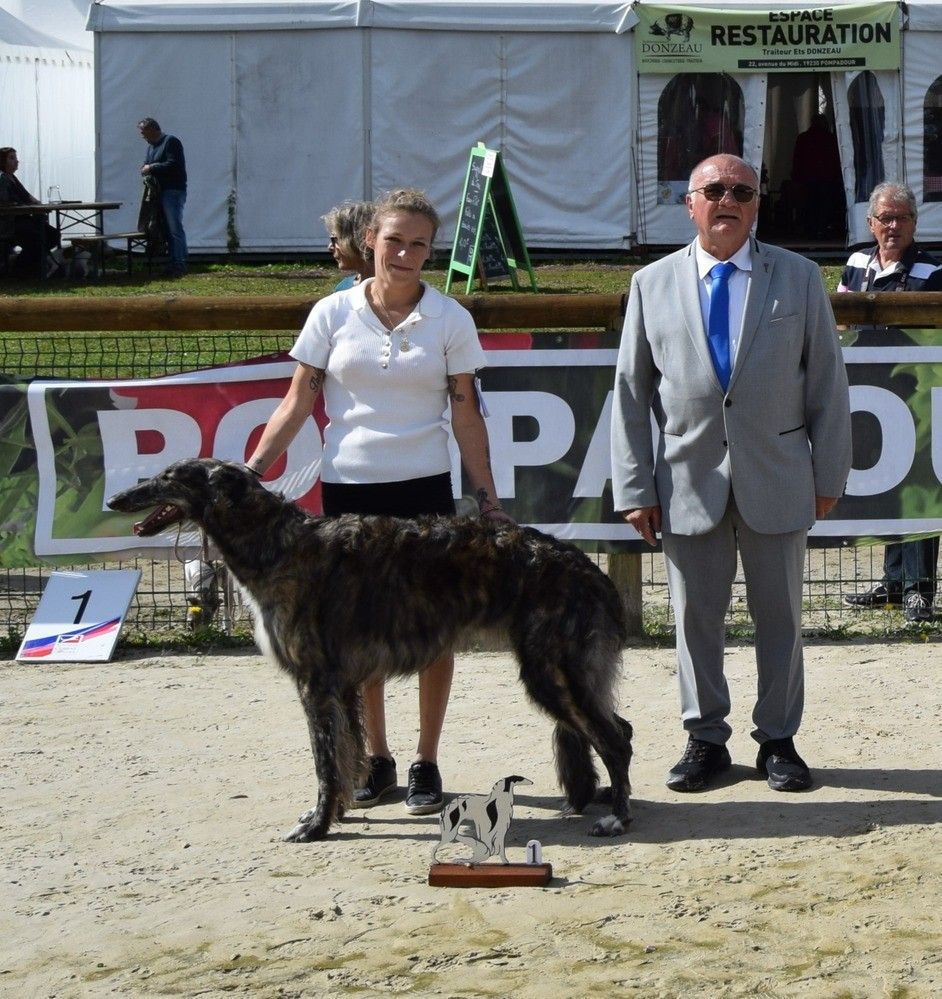borzoi: (92, 452, 657, 841)
